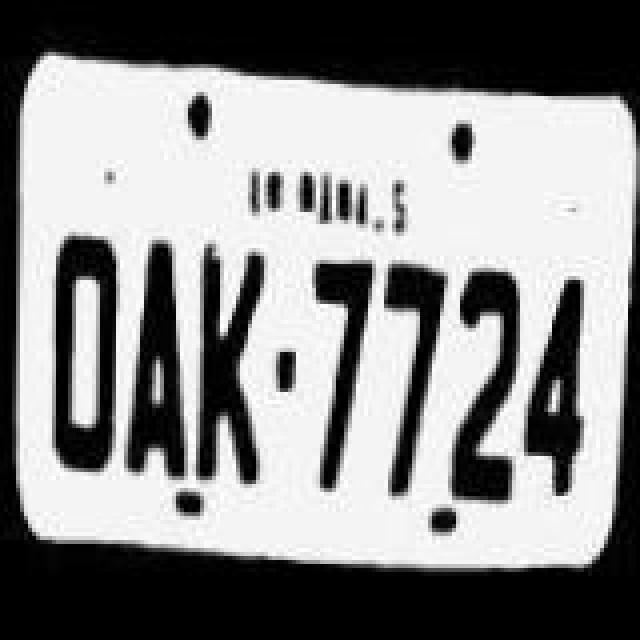2: (444, 268, 528, 508)
4: (518, 272, 590, 500)
7: (296, 254, 380, 498), (378, 250, 450, 506)
A: (122, 226, 198, 486)
K: (188, 240, 276, 488)
O: (52, 222, 124, 494)
